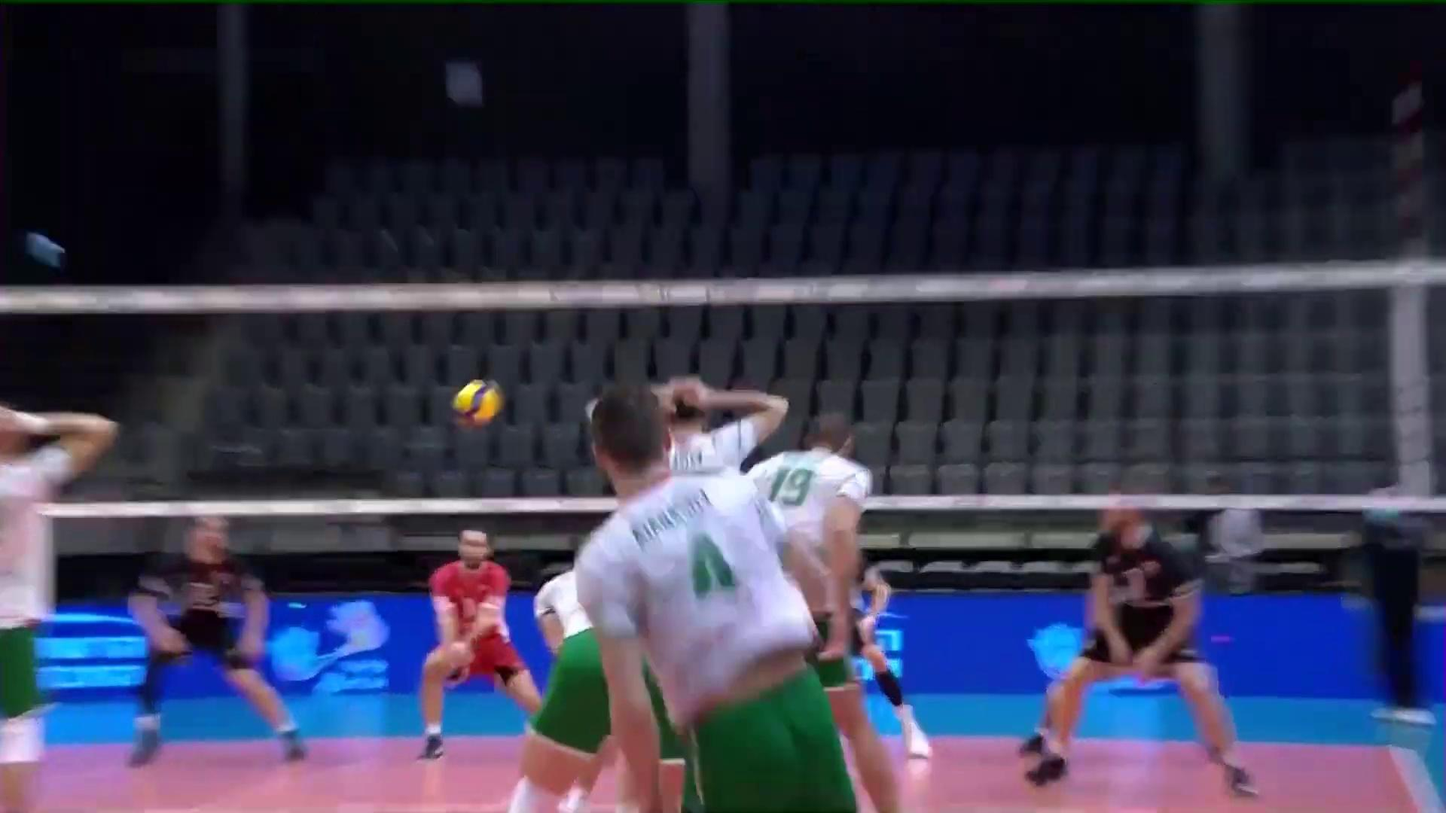ball: (449, 377, 509, 430)
